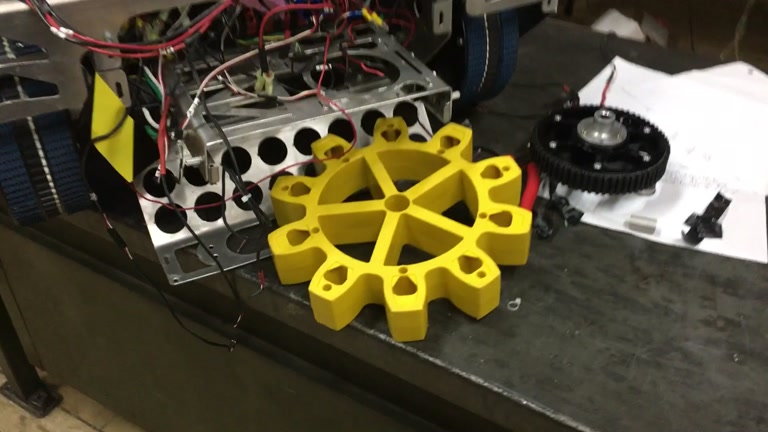gear: (265, 115, 532, 342)
